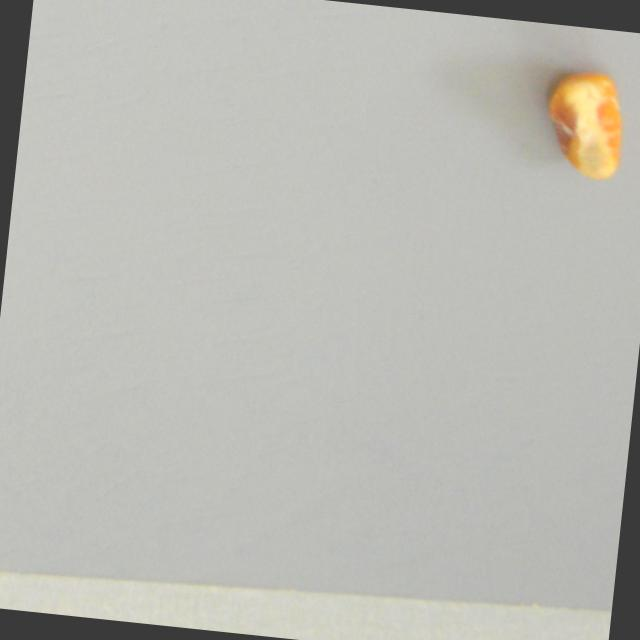dañado: (531, 64, 630, 184)
